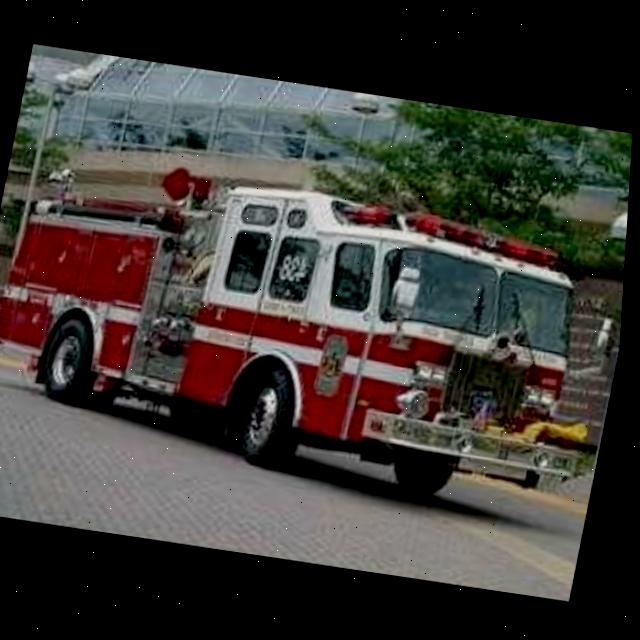emergency: (0, 145, 633, 515)
